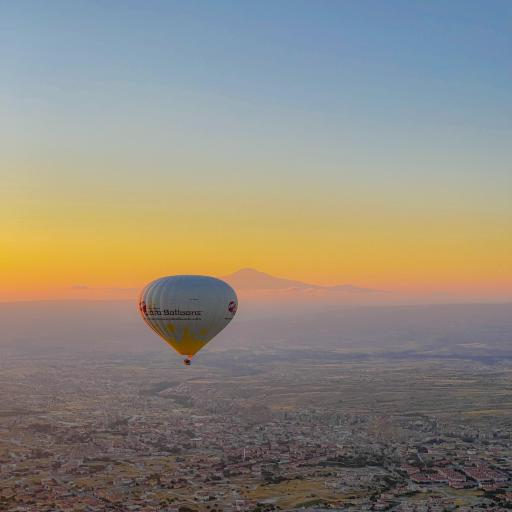hot air ballon: (136, 274, 239, 365)
